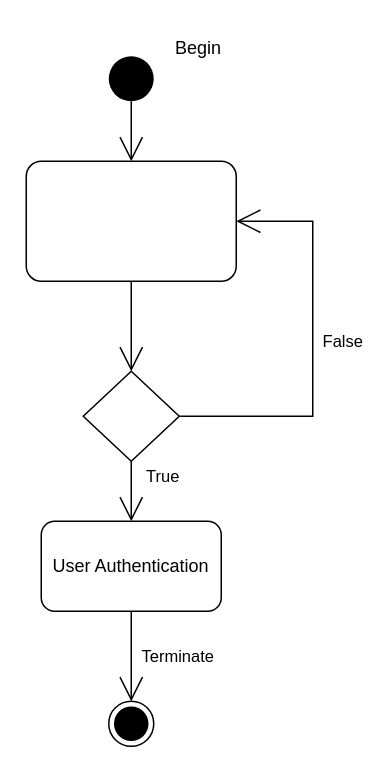
Some shapes in this 389 by 773 pixel diagram are drawn without their labels. Here are the shapes that lost their labels. From the top down, the box of each, then its label:
(25, 160, 236, 281): Enter Username and Password
(82, 370, 179, 461): Validate
